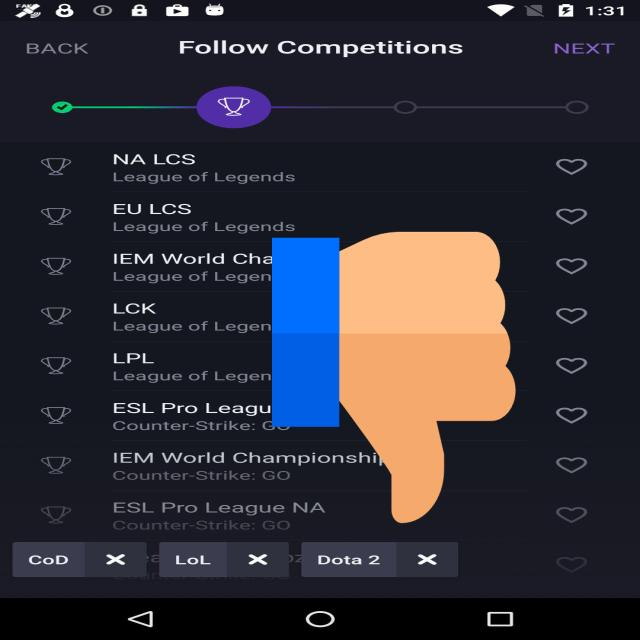obstruction: (272, 225, 516, 530)
